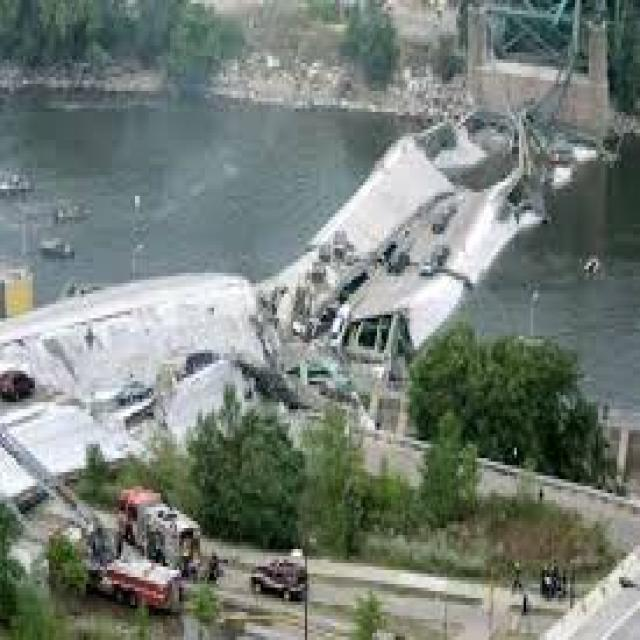bridge collapse: (176, 102, 639, 491)
